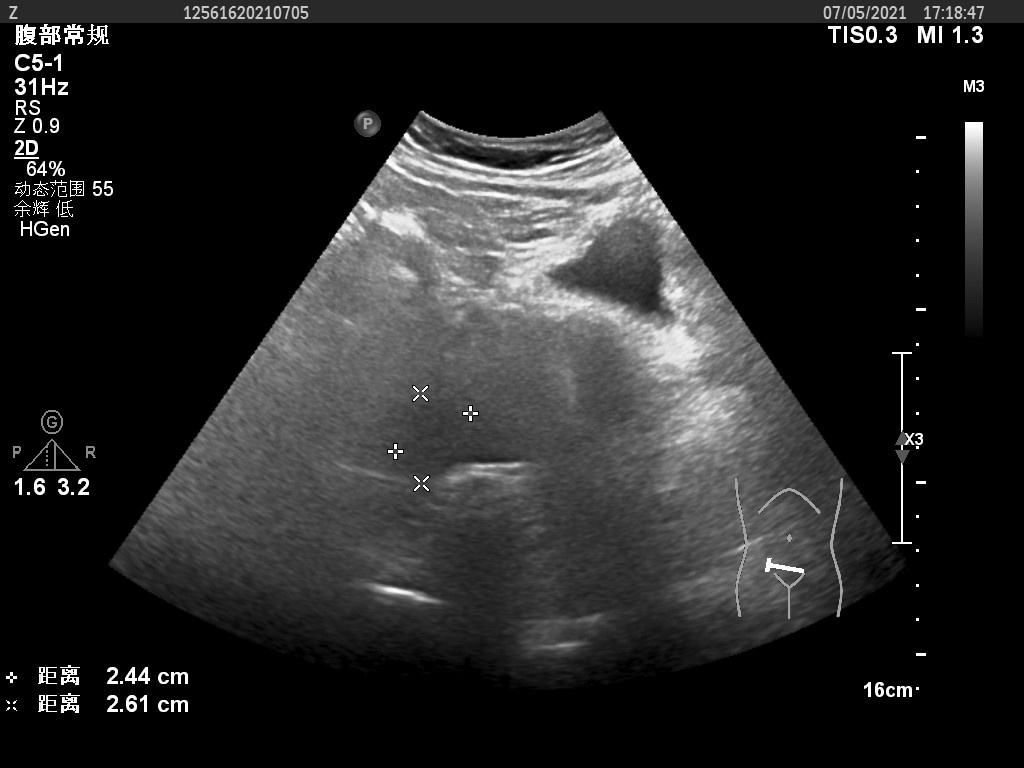肌瘤: (406, 403, 458, 477)
